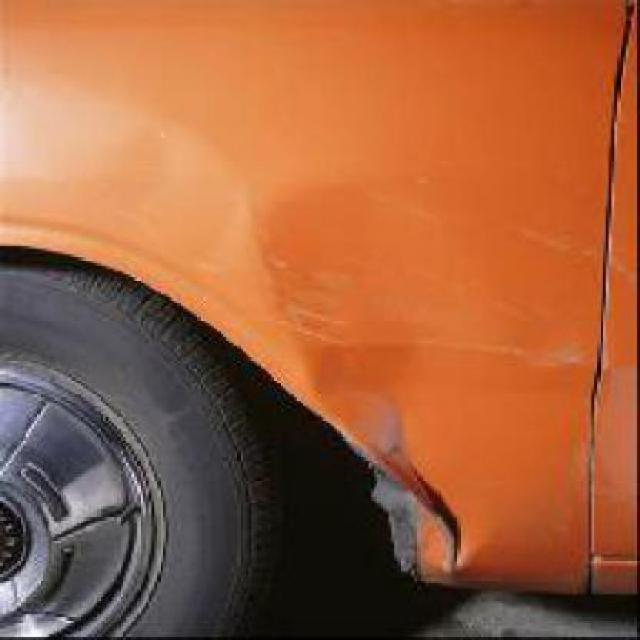dent-or-scratch: (246, 124, 639, 600)
